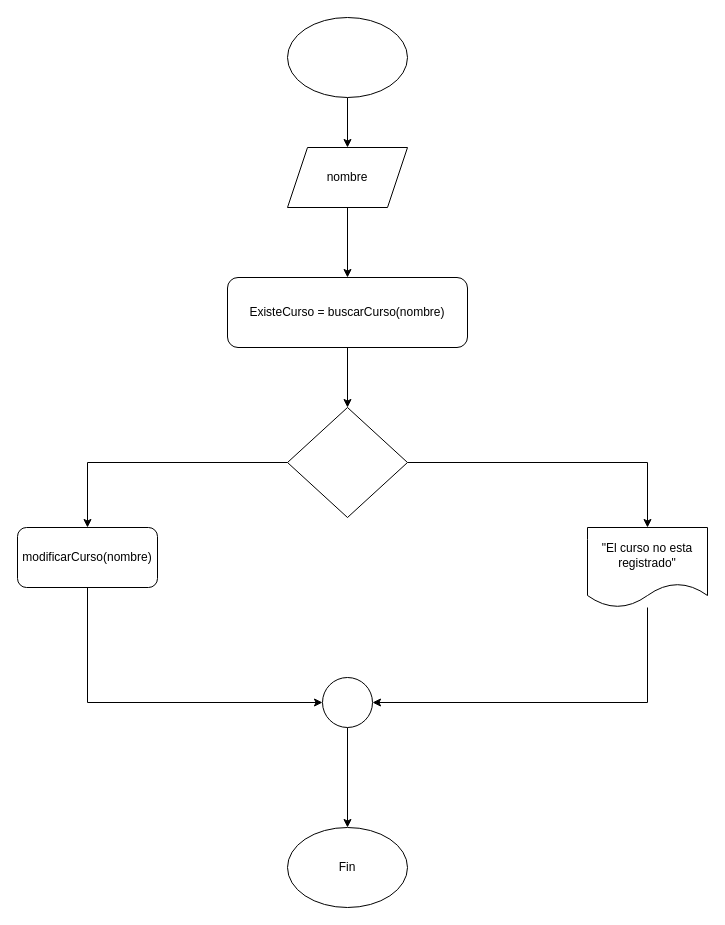
This 725x925 diagram has some shape labels left out. The shapes that lost their labels are listed below. From the top down, each one's box as (x1, y1, x2, y2) in pixels, then its label:
(286, 16, 408, 98): Modificar Curso
(286, 406, 408, 518): ExisteCurso = true
